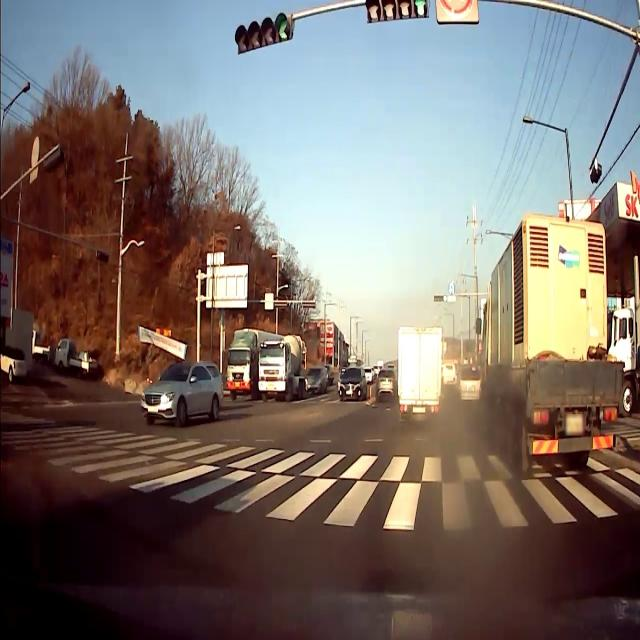Green Light: (274, 12, 292, 42), (413, 0, 427, 20), (443, 294, 447, 302)
